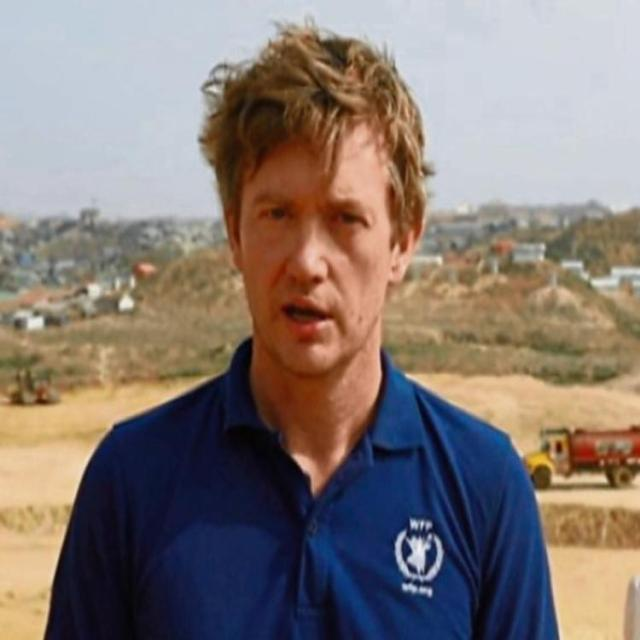mobile_phonerotation: (124, 30, 571, 640), (522, 421, 640, 490)
